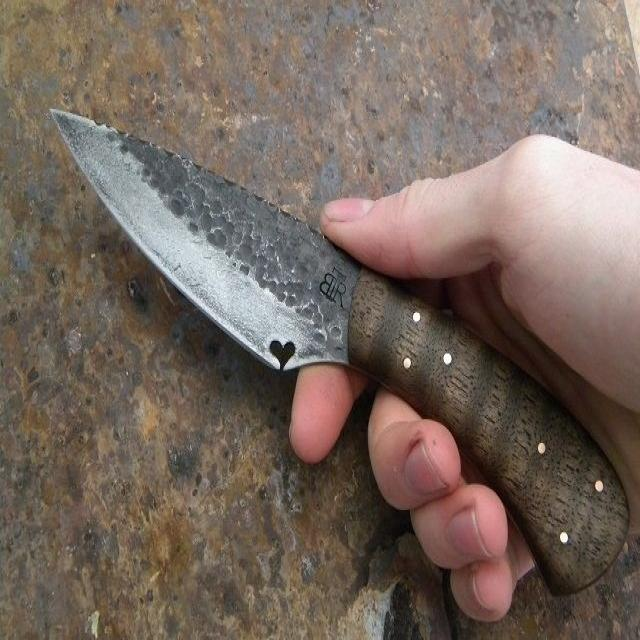knife: (47, 102, 632, 604)
